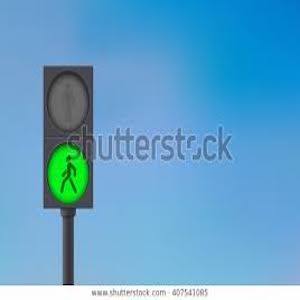green: (53, 151, 86, 196)
